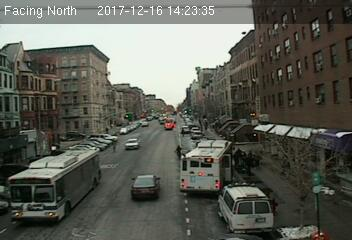bus: (8, 148, 105, 223), (179, 140, 232, 190)
car: (128, 174, 160, 198), (124, 138, 140, 150)
police: (215, 181, 277, 233)
